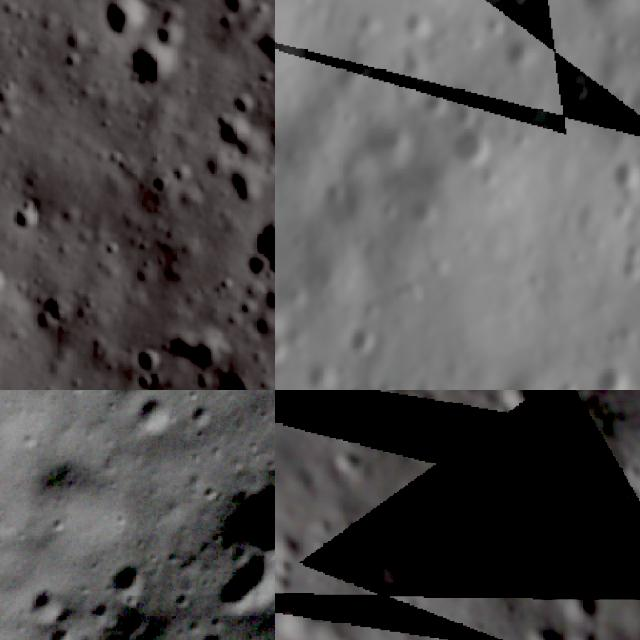crater: (196, 446, 275, 585), (196, 535, 275, 640), (488, 390, 571, 440), (13, 571, 76, 635), (100, 549, 160, 608), (126, 390, 186, 444), (124, 46, 178, 96), (98, 0, 152, 46), (220, 164, 264, 215), (247, 216, 275, 285), (444, 120, 490, 162), (0, 198, 42, 243), (182, 393, 222, 435), (129, 345, 169, 385), (34, 298, 72, 338), (37, 614, 91, 640), (405, 191, 442, 226), (247, 29, 275, 74), (592, 361, 633, 390), (184, 618, 238, 640), (417, 84, 450, 118), (615, 240, 640, 281), (503, 37, 535, 69), (398, 10, 434, 36), (339, 329, 376, 354), (606, 155, 630, 190), (474, 161, 501, 190), (561, 78, 589, 104), (479, 15, 510, 36), (450, 99, 472, 128), (0, 265, 15, 304), (388, 73, 410, 99), (396, 52, 423, 73), (510, 126, 531, 151), (319, 175, 340, 199), (373, 374, 398, 390), (408, 376, 429, 390), (341, 379, 367, 390), (275, 334, 282, 359), (295, 0, 313, 5)
